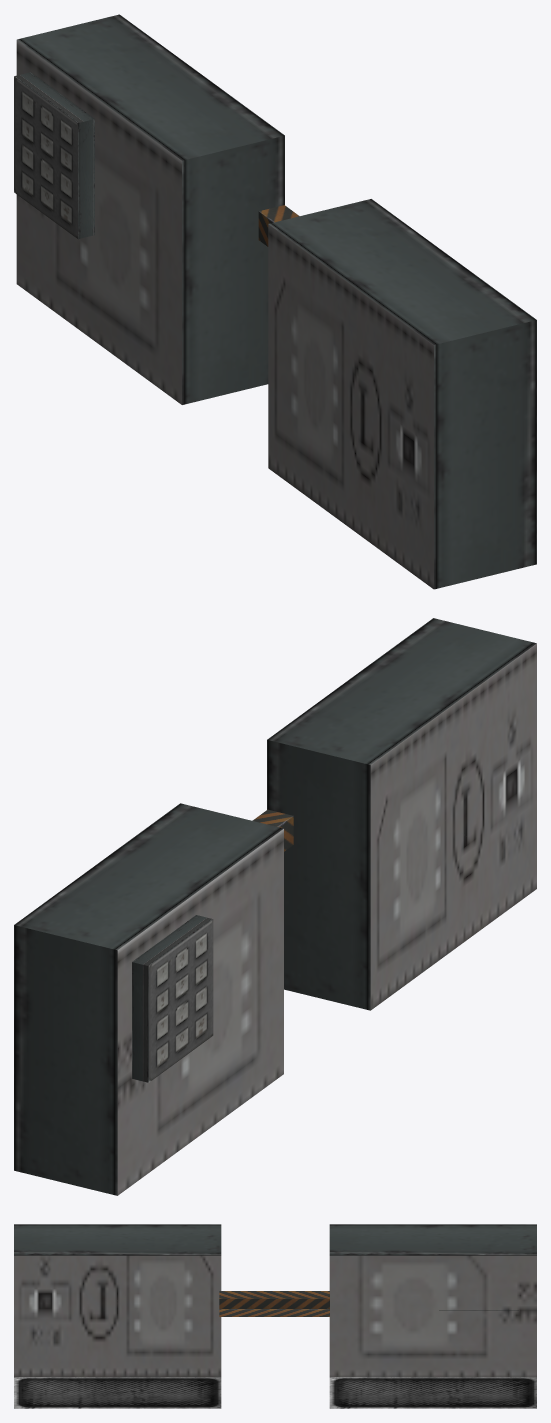
The model's file is WallPanel_03.fbx.
The picture shows the model from 3 angles, top to bottom: view 1: azimuth 30°, elevation 25°; view 2: azimuth 150°, elevation 25°; view 3: azimuth 270°, elevation 25°; orthographic projection. The views are drawn at different scales.
Parts seen in each view (by area): view 1: WallPanel_03; view 2: WallPanel_03; view 3: WallPanel_03.
Part boxes in pixels (x1,y1,x2,y2): WallPanel_03: (14,14,536,589); WallPanel_03: (14,618,536,1195); WallPanel_03: (14,1224,536,1408).
Size of the model in its own units: 9.55 by 18.61 by 57.59.
